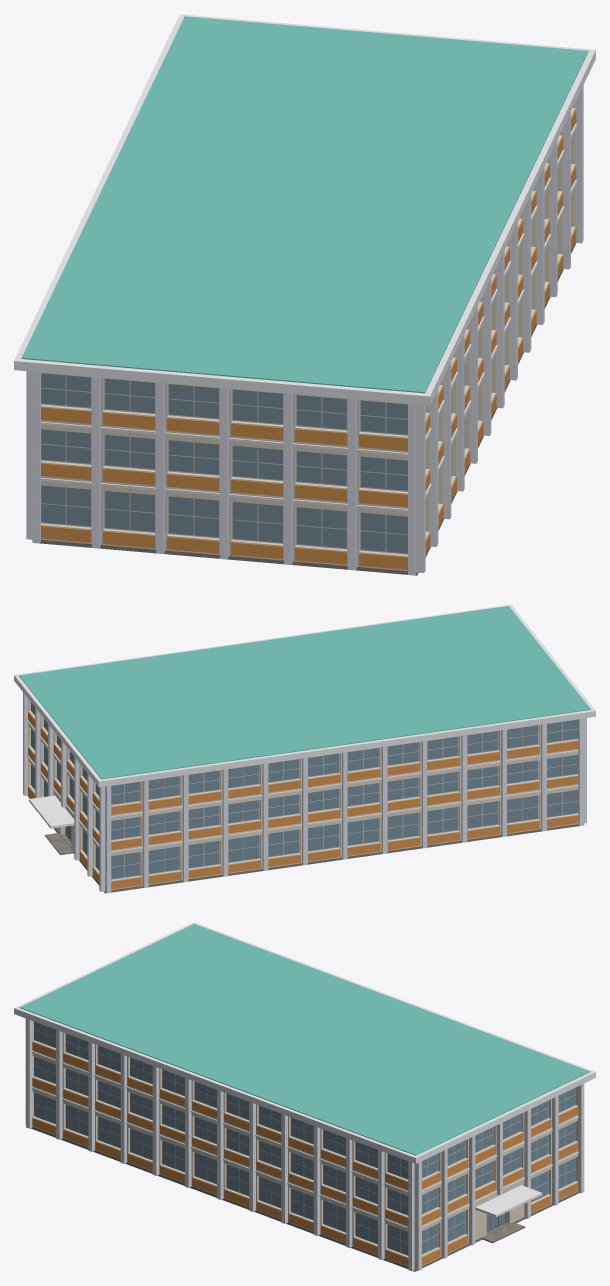
The picture shows the model from 3 angles, top to bottom: view 1: azimuth 30°, elevation 25°; view 2: azimuth 150°, elevation 25°; view 3: azimuth 270°, elevation 25°; orthographic projection. The views are drawn at different scales.
Visible parts, largest first — view 1: kindergarten__greenroof, kindergarten__pier, kindergarten__glass, kindergarten__cream, kindergarten__orange, kindergarten__fascia, kindergarten__frame, kindergarten__stone; view 2: kindergarten__greenroof, kindergarten__glass, kindergarten__pier, kindergarten__cream, kindergarten__orange, kindergarten__fascia, kindergarten__frame, kindergarten__stone, kindergarten__canopy; view 3: kindergarten__greenroof, kindergarten__glass, kindergarten__pier, kindergarten__cream, kindergarten__orange, kindergarten__fascia, kindergarten__frame, kindergarten__stone, kindergarten__canopy.
Boxes of the visible parts, left/top/right/bottom form: kindergarten__greenroof: left=21, top=16, right=588, bottom=393; kindergarten__pier: left=26, top=85, right=583, bottom=575; kindergarten__glass: left=41, top=168, right=557, bottom=553; kindergarten__cream: left=41, top=102, right=575, bottom=571; kindergarten__orange: left=41, top=109, right=576, bottom=569; kindergarten__fascia: left=14, top=14, right=595, bottom=405; kindergarten__frame: left=41, top=147, right=571, bottom=554; kindergarten__stone: left=40, top=243, right=576, bottom=575; kindergarten__greenroof: left=19, top=606, right=590, bottom=779; kindergarten__glass: left=31, top=702, right=577, bottom=878; kindergarten__pier: left=23, top=692, right=586, bottom=893; kindergarten__cream: left=28, top=699, right=578, bottom=890; kindergarten__orange: left=28, top=711, right=578, bottom=889; kindergarten__fascia: left=14, top=604, right=595, bottom=787; kindergarten__frame: left=30, top=710, right=577, bottom=879; kindergarten__stone: left=27, top=795, right=578, bottom=893; kindergarten__canopy: left=29, top=795, right=74, bottom=828; kindergarten__greenroof: left=19, top=924, right=590, bottom=1155; kindergarten__glass: left=34, top=1021, right=575, bottom=1254; kindergarten__pier: left=25, top=1018, right=584, bottom=1271; kindergarten__cream: left=32, top=1021, right=577, bottom=1268; kindergarten__orange: left=32, top=1042, right=578, bottom=1265; kindergarten__fascia: left=14, top=922, right=595, bottom=1163; kindergarten__frame: left=34, top=1026, right=576, bottom=1255; kindergarten__stone: left=31, top=1127, right=579, bottom=1271; kindergarten__canopy: left=475, top=1185, right=542, bottom=1217.
Size of the model in its own units: 47.92 by 11.42 by 49.91.
11 materials, 3 textured.
